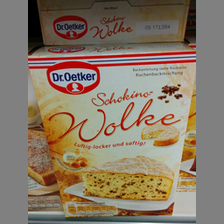cake: (30, 44, 197, 218)
